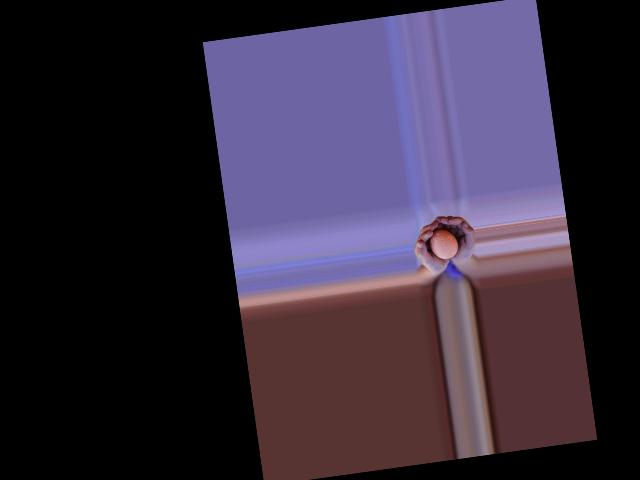egg: (428, 227, 460, 261)
